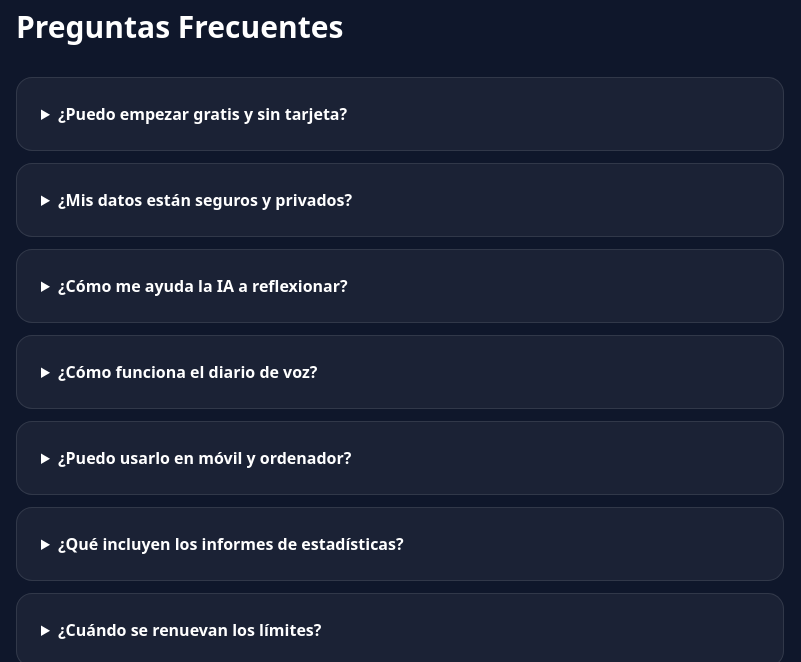
FAQ toggles ¿Mis datos están seguros y privados?
This screenshot has width=801, height=662.
Click the heading "¿Mis datos están seguros y privados?".
click(205, 200)  # box [58,189,352,211]
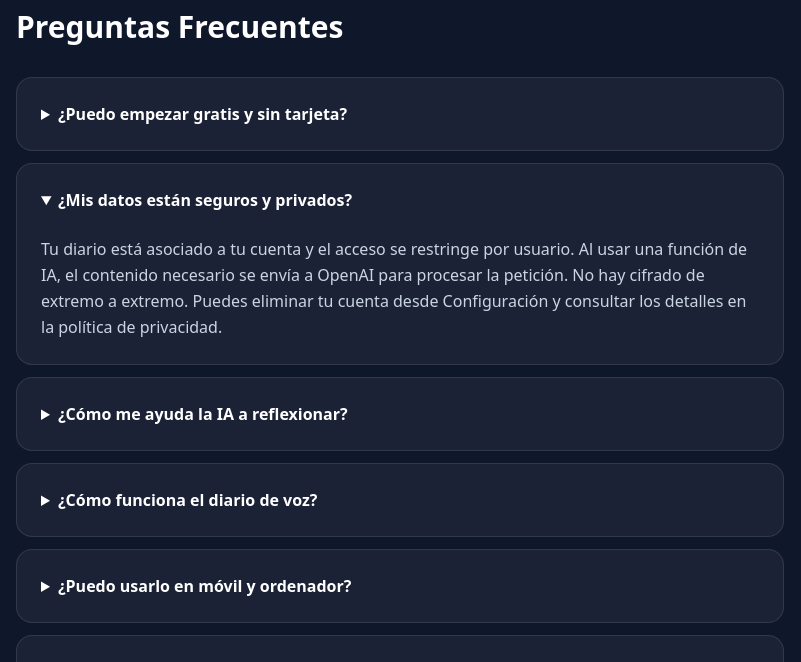
Check: the text "Tu diario está asociado a tu cuenta y el acceso se restringe por usuario. Al usar una función de IA, el contenido necesa" is shown, box [41,238,747,338]
Click the heading "¿Mis datos están seguros y privados?".
click(205, 200)  # box [58,189,352,211]
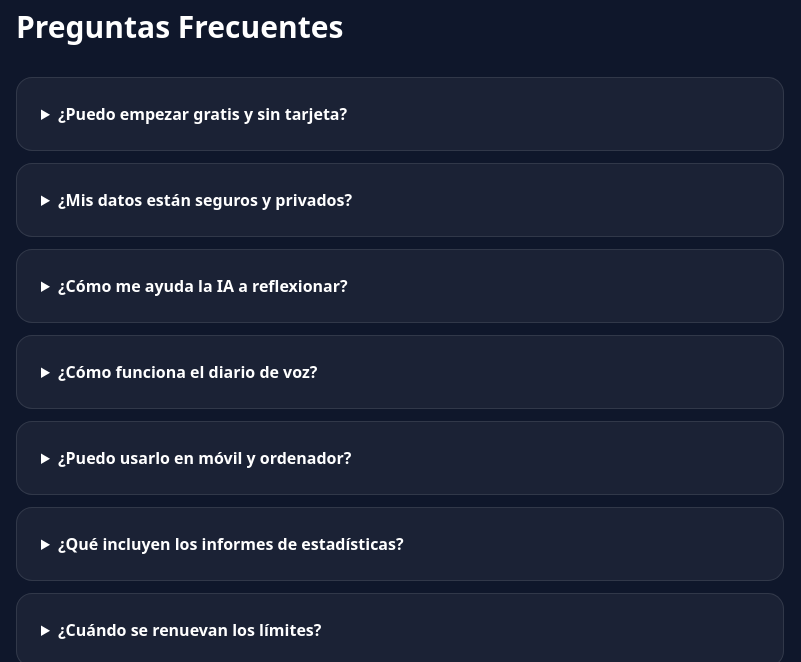
Check: the text "Tu diario está asociado a tu cuenta y el acceso se restringe por usuario. Al usar una función de IA, el contenido necesa" is gone
